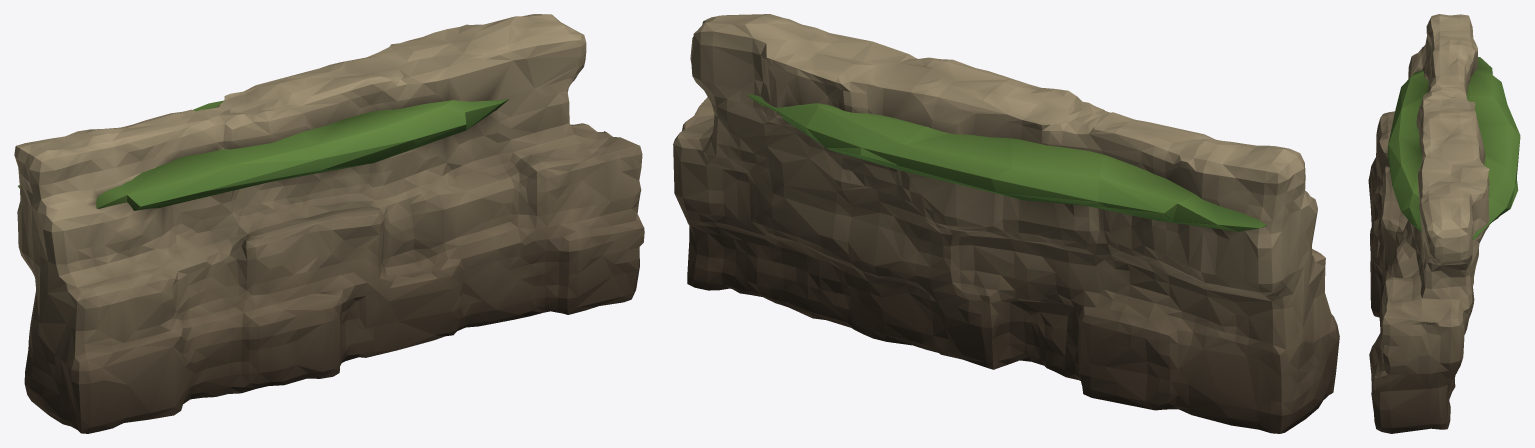
Rendered from klif_3.glb.
3 renders of one model, left to right at view 1: azimuth 30°, elevation 25°; view 2: azimuth 150°, elevation 25°; view 3: azimuth 270°, elevation 25°, orthographic. The views are drawn at different scales.
Parts seen in each view (by area): view 1: klif_3; view 2: klif_3; view 3: klif_3.
Boxes of the visible parts, x1,y1,x2,y2 form: klif_3: (14,14,644,433); klif_3: (673,14,1339,433); klif_3: (1368,14,1520,433).
Size of the model in its own units: 2.52 by 1.1 by 0.7184.
